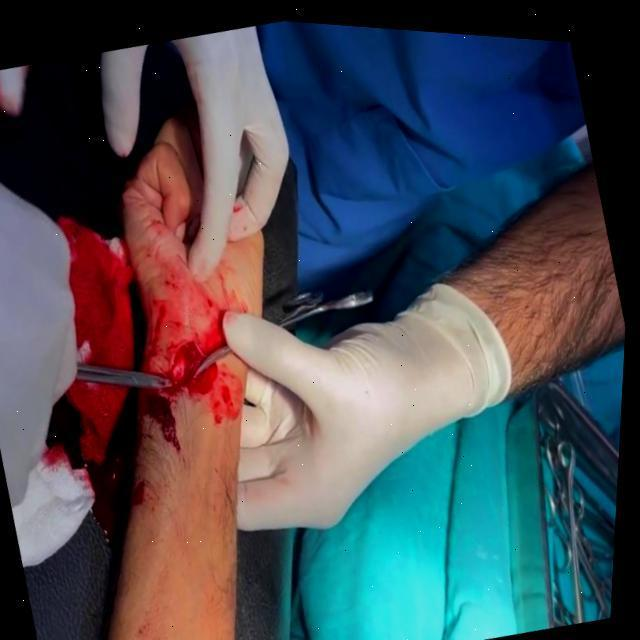knife: (84, 456, 119, 536), (170, 341, 220, 396), (145, 393, 183, 452), (150, 304, 169, 357), (212, 385, 233, 425), (132, 480, 148, 506)
